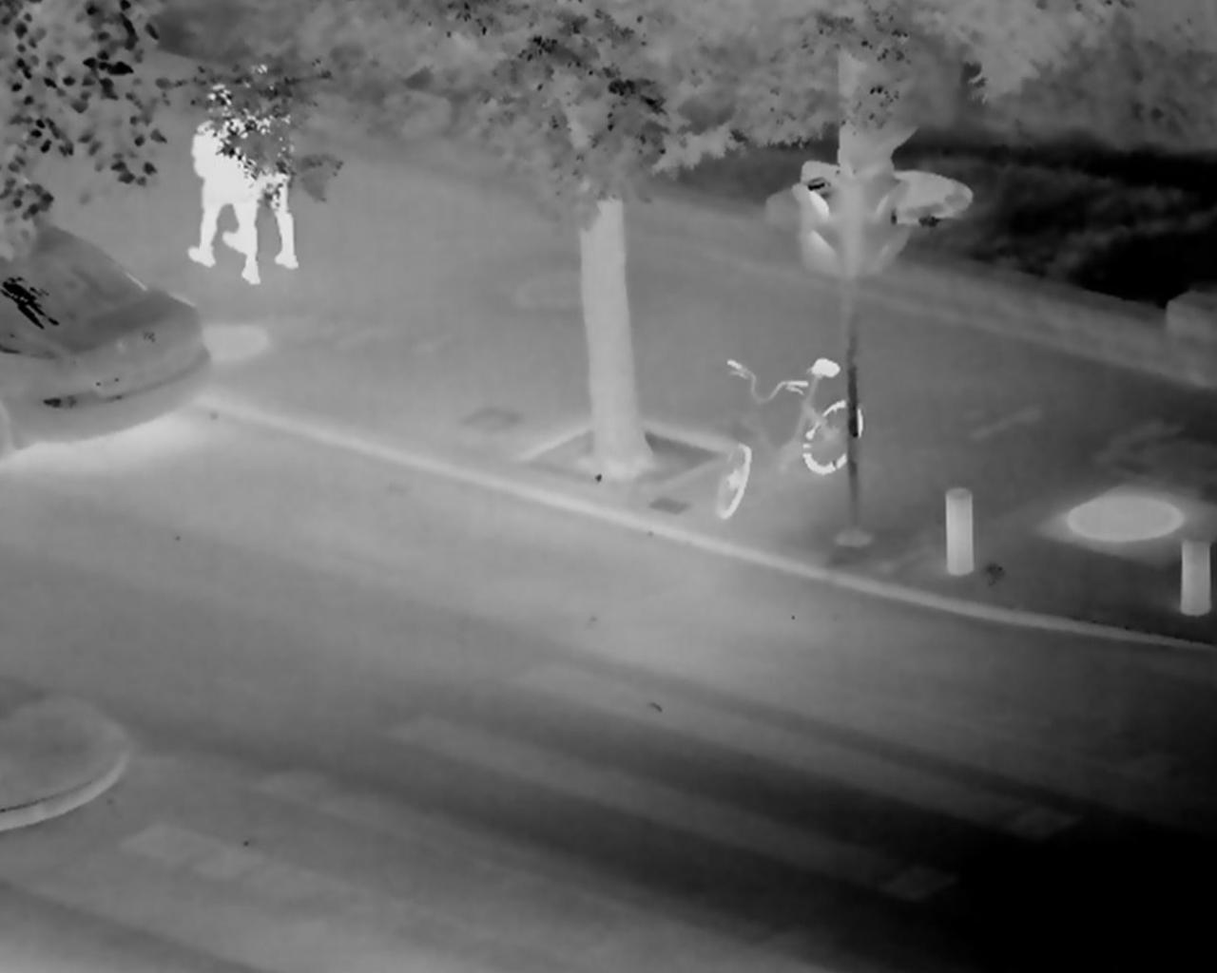person: (223, 52, 299, 269), (190, 86, 259, 286)
